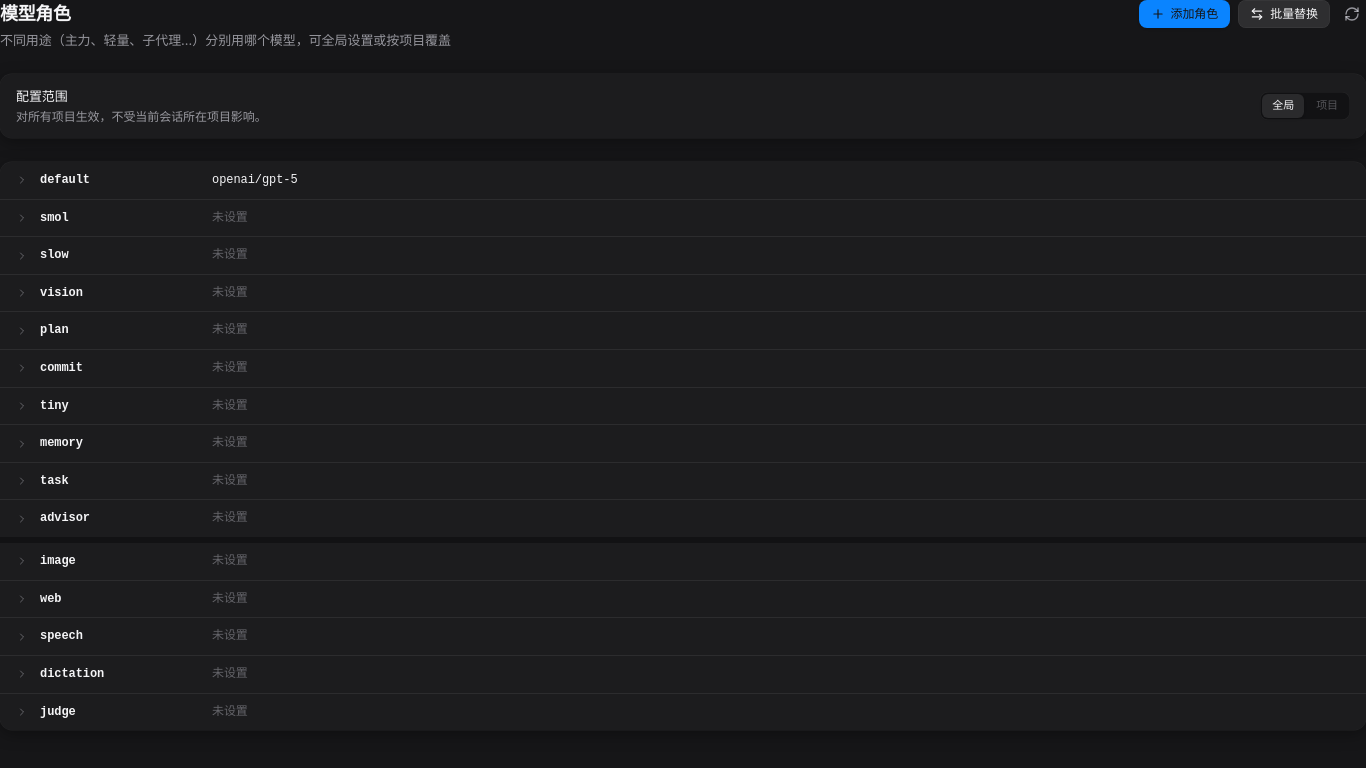
模型角色 添加角色 › writes a new custom role into the shown scope and lists it
Click the button "添加角色".
click(1184, 14)  # box [1138,0,1230,28]
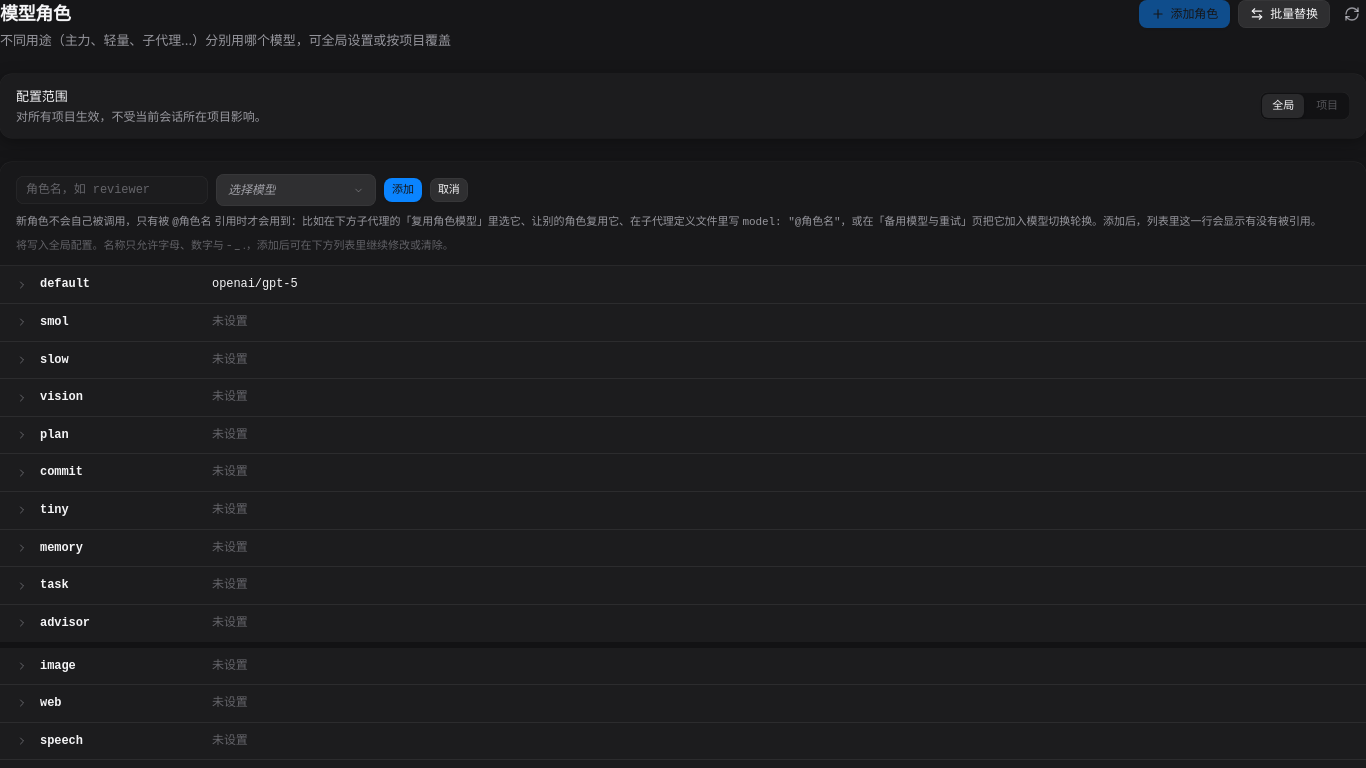
Type "reviewer" into the field named "新角色名称".
click(112, 190); type("reviewer")  # box [16,176,208,204]
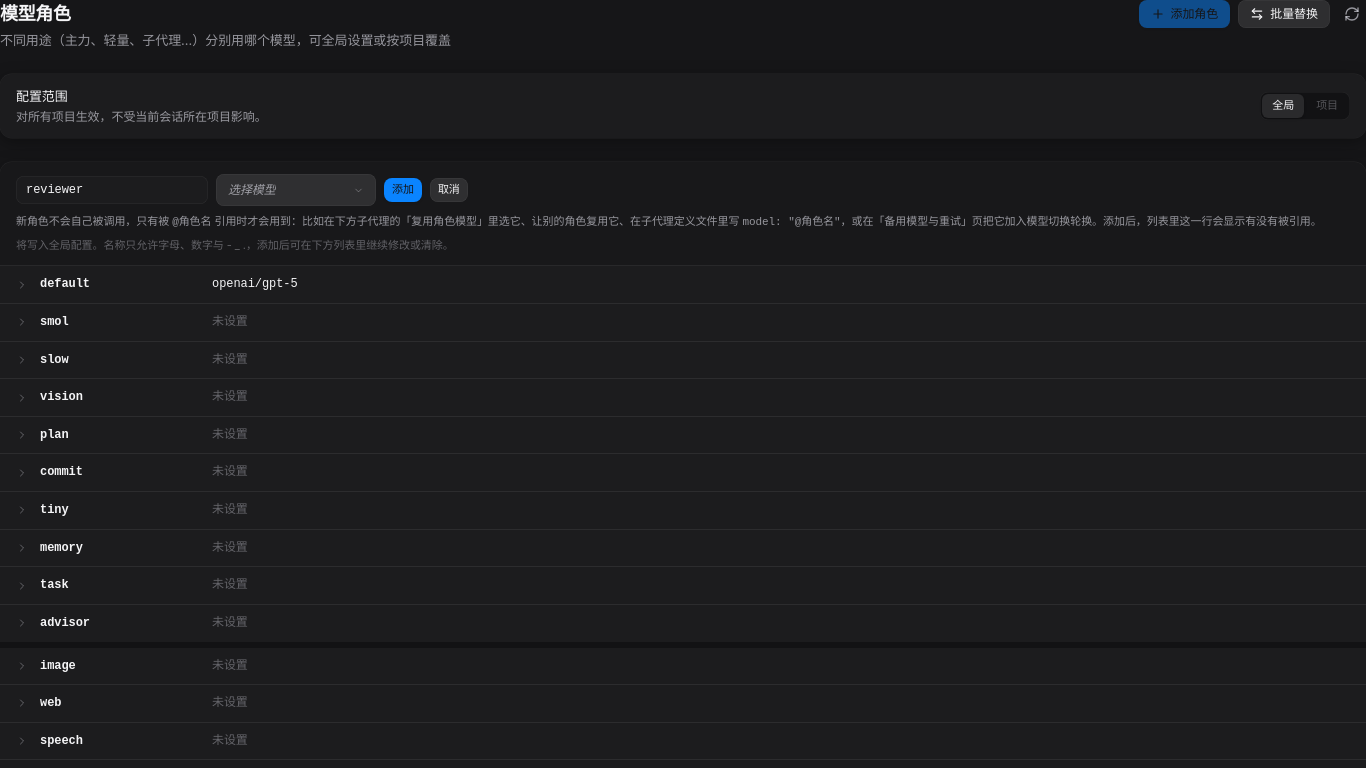
Click the button "选择模型".
click(296, 190)  # box [216,174,376,206]
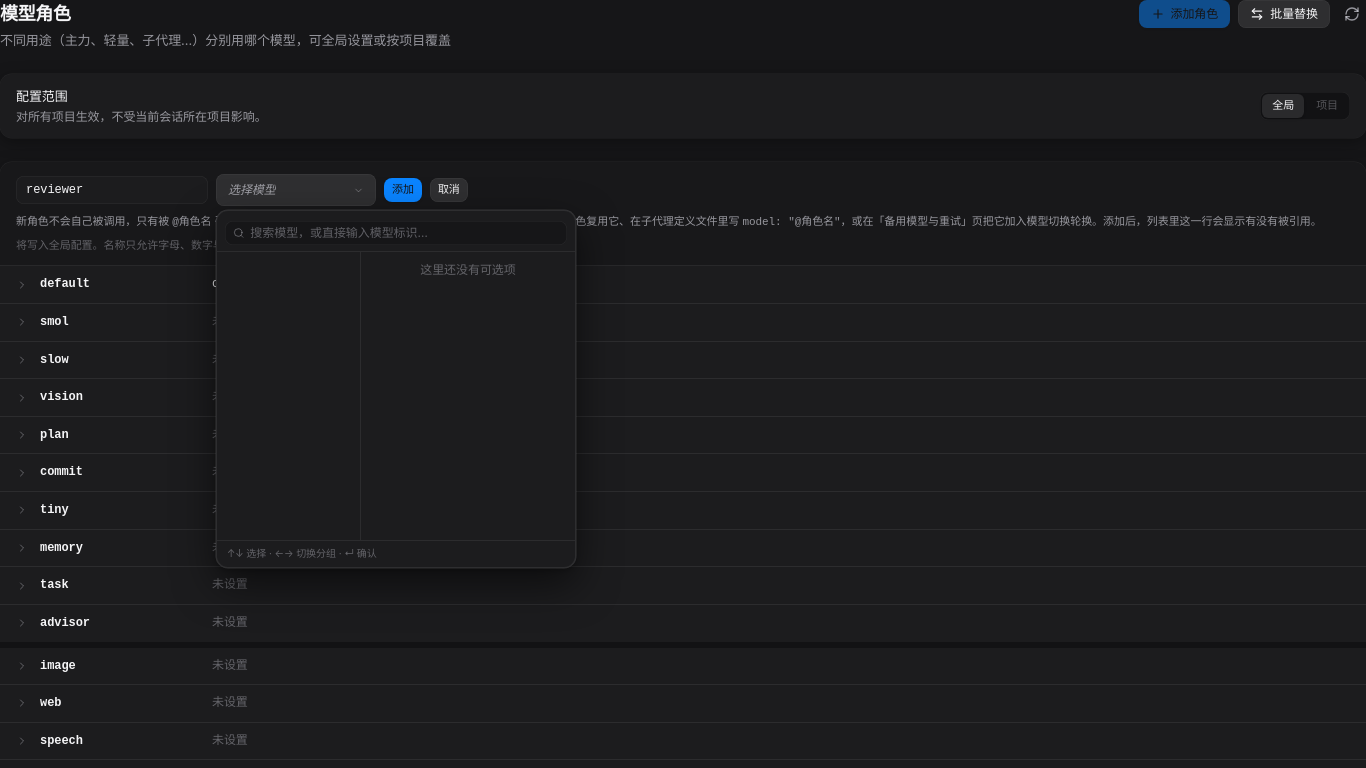
Type "openai/gpt-5.5" into the field with placeholder "搜索模型，或直接输入模型标识…".
click(405, 233); type("openai/gpt-5.5")  # box [250,225,559,241]
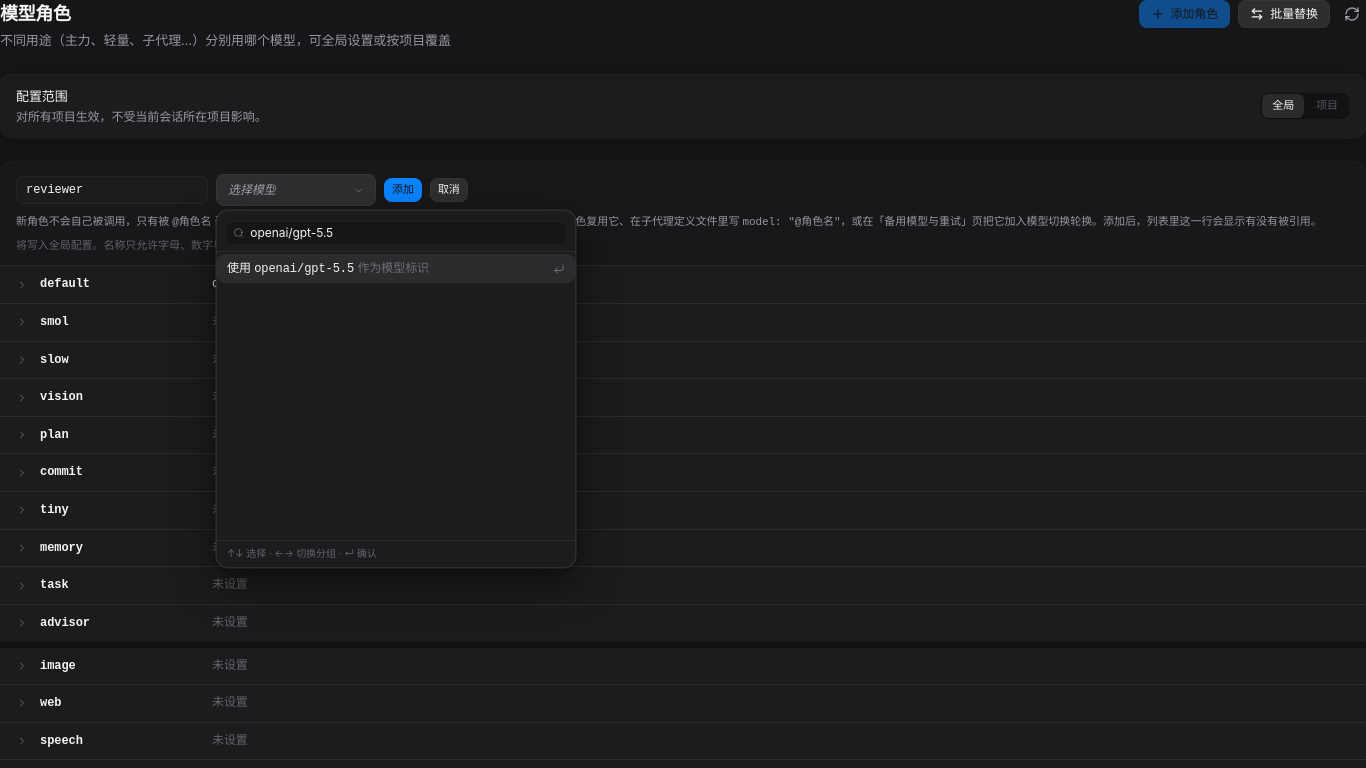
Press Enter in the field with placeholder "搜索模型，或直接输入模型标识…", box [250,225,559,241]
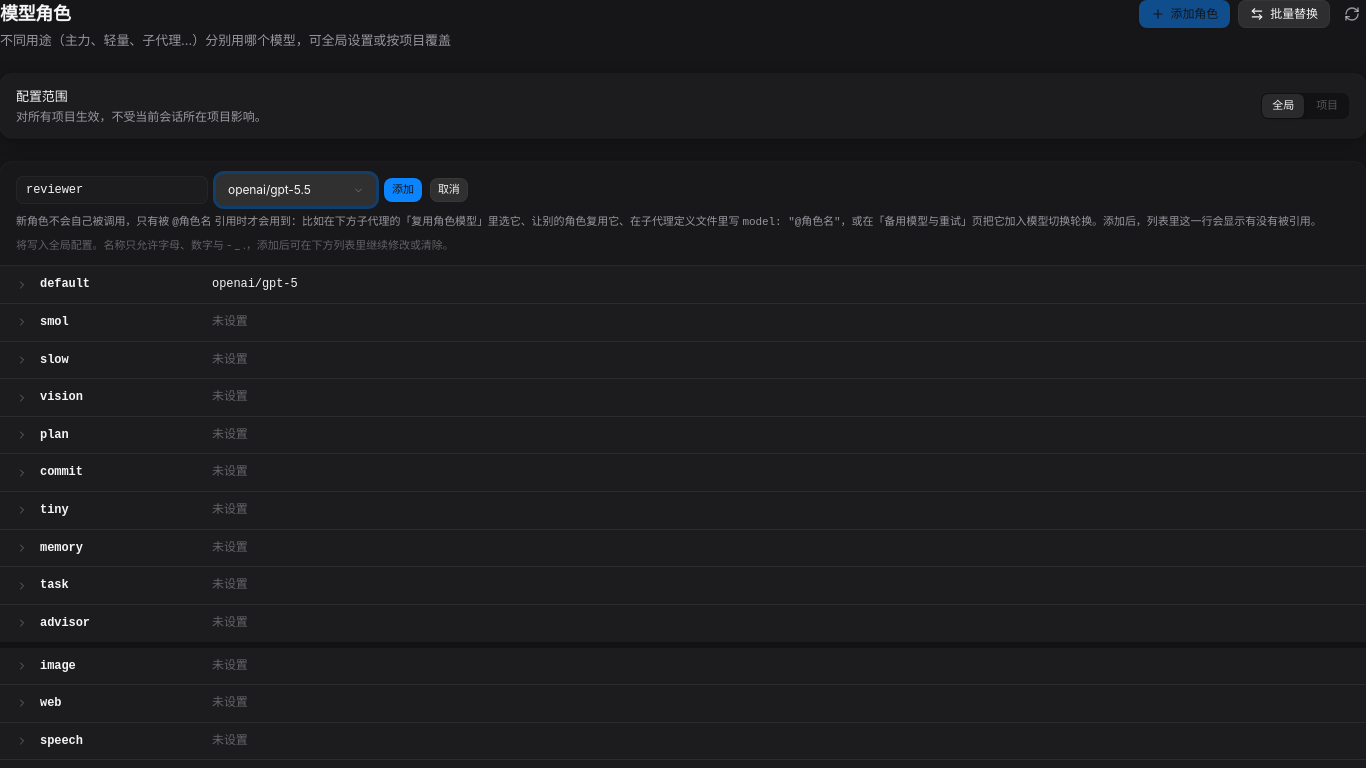
Click the button "添加".
click(403, 190)  # box [384,178,422,202]
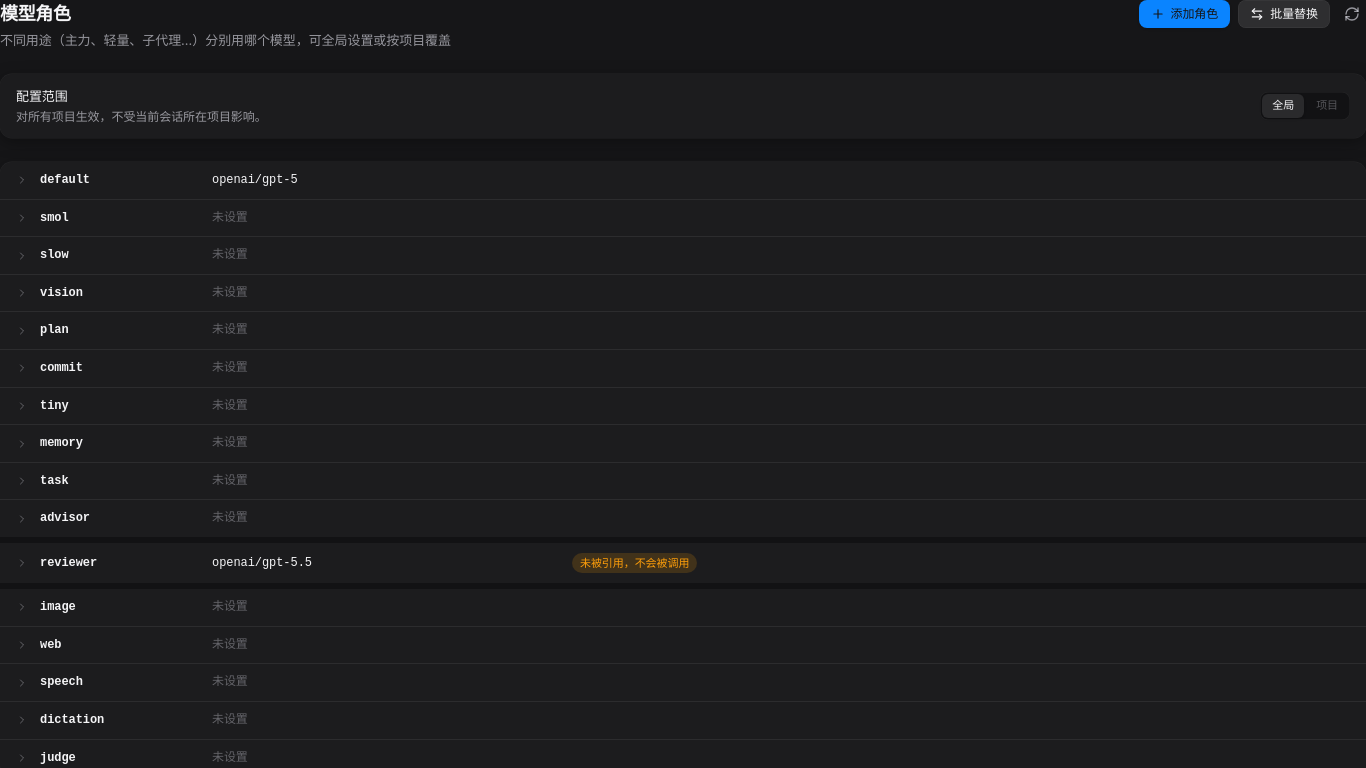
expect the element with test id "add-role-form" is gone: met
expect the element showing "reviewer openai/gpt-5.5 未被引用，不会被调用" is shown: met, box [0,537,1365,583]
